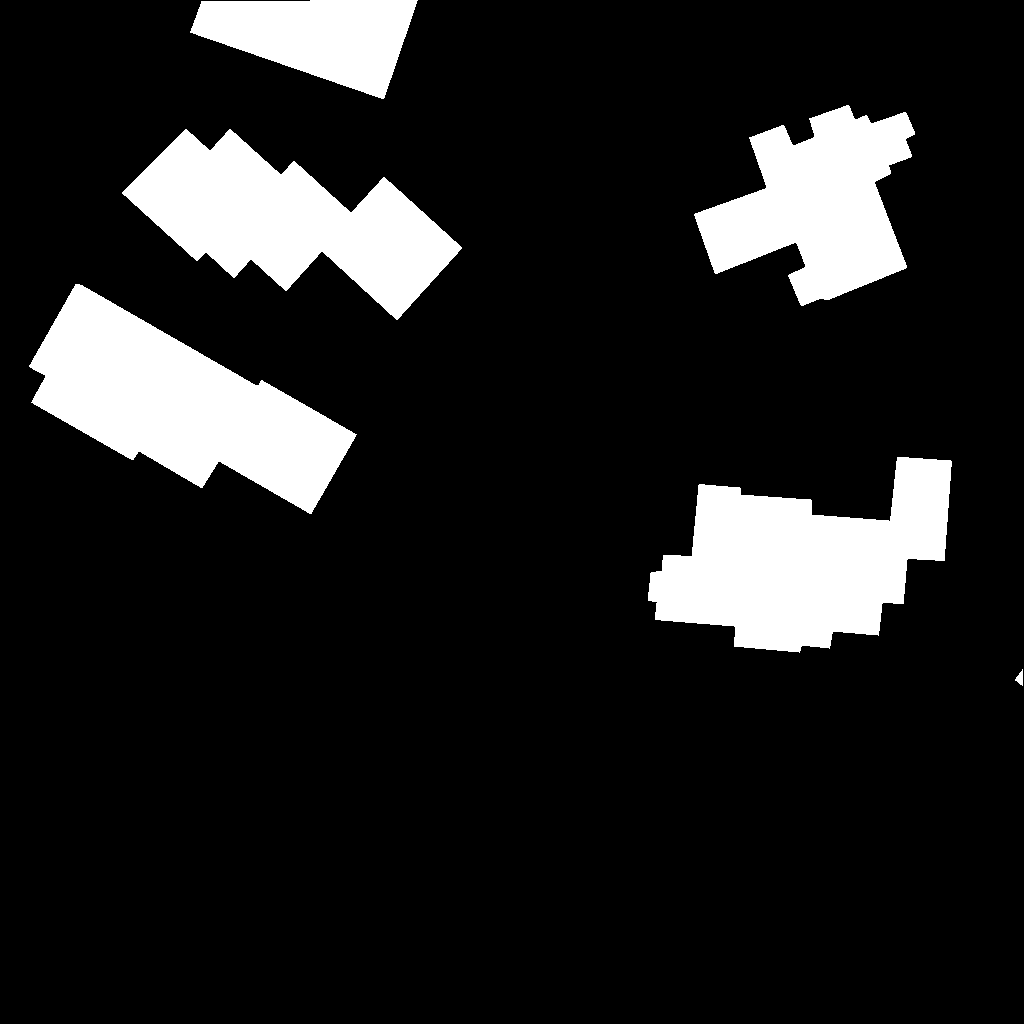building: (29, 283, 358, 515), (122, 129, 463, 321), (648, 457, 953, 653), (694, 105, 916, 307), (190, 0, 419, 100), (1015, 669, 1024, 687)
